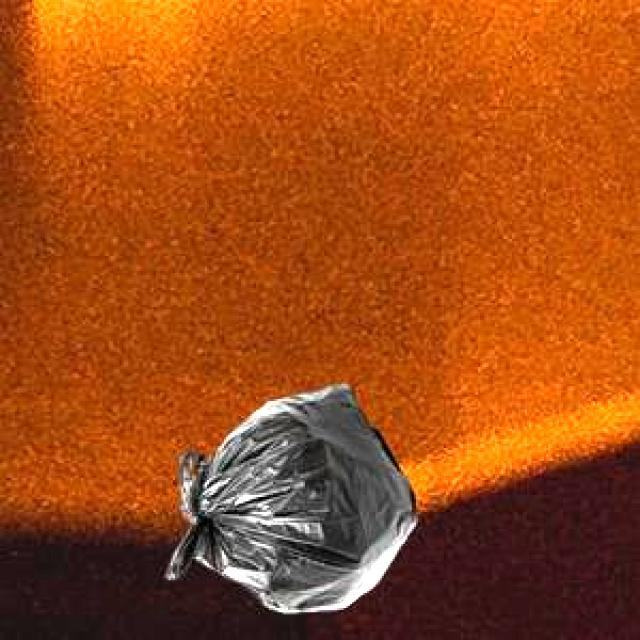Garbage_Bag: (164, 380, 412, 610)
